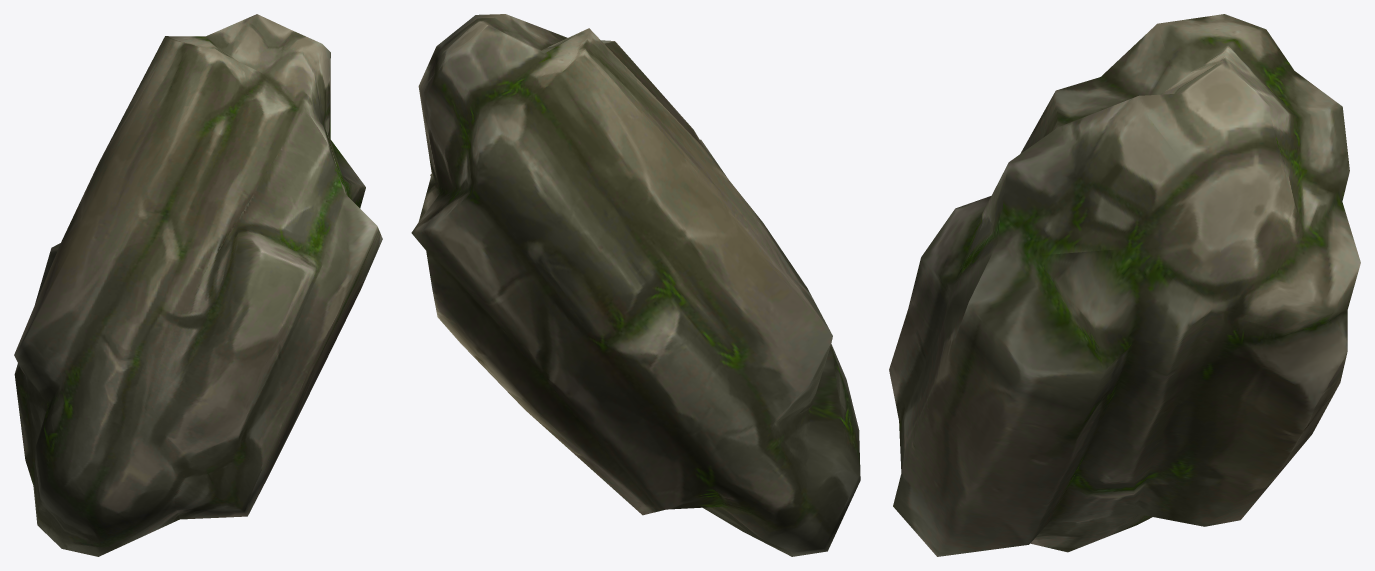
The model's file is RockFormation_4_2 (17).fbx.
3 views of the same model, side by side, from view 1: azimuth 30°, elevation 25°; view 2: azimuth 150°, elevation 25°; view 3: azimuth 270°, elevation 25° (orthographic). The views are drawn at different scales.
Visible parts, largest first — view 1: RockFormation_4_2 (17); view 2: RockFormation_4_2 (17); view 3: RockFormation_4_2 (17).
Boxes of the visible parts, left/top/right/bottom form: RockFormation_4_2 (17): left=14, top=14, right=382, bottom=556; RockFormation_4_2 (17): left=411, top=14, right=860, bottom=556; RockFormation_4_2 (17): left=889, top=14, right=1360, bottom=556.
Size of the model in its own units: 156 by 196 by 133.
